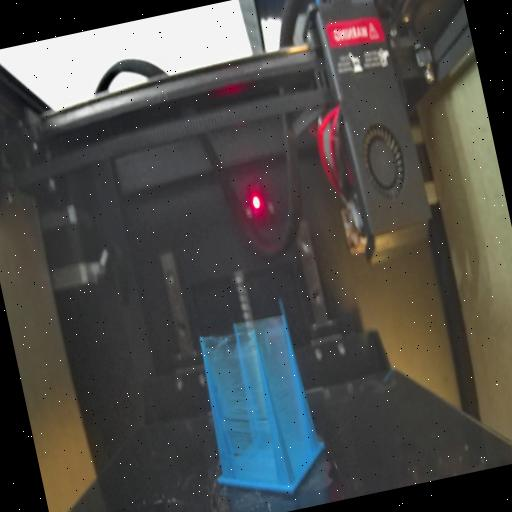stringing: (200, 322, 282, 490), (258, 315, 316, 483)
